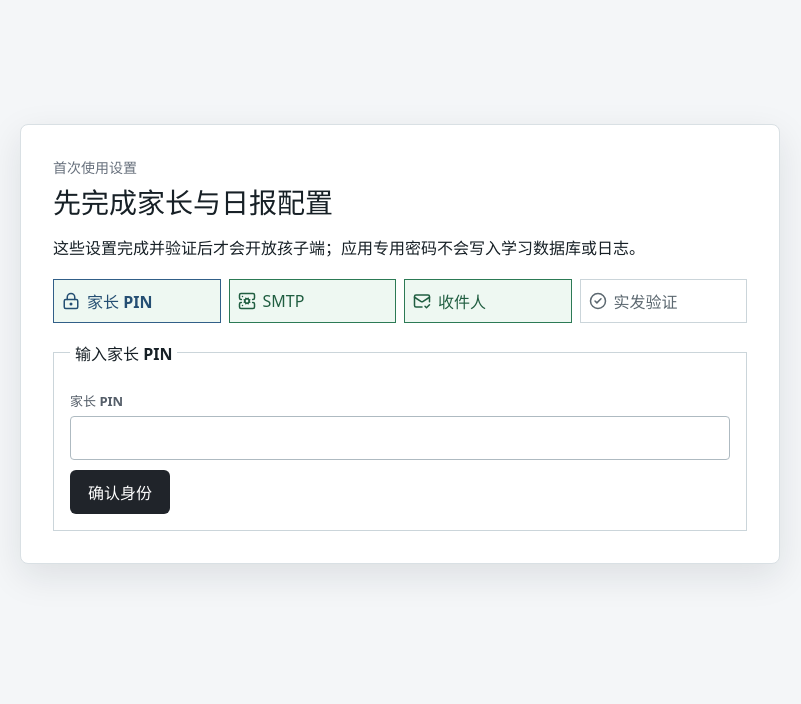
Scenario: InstallationSetupWizard › keeps dispatch closed after a status-read failure and a status-only refresh never sends
Type "2468" into the password field named "初始化家长PIN". click: x=400, y=438
box: [70,416,730,460]
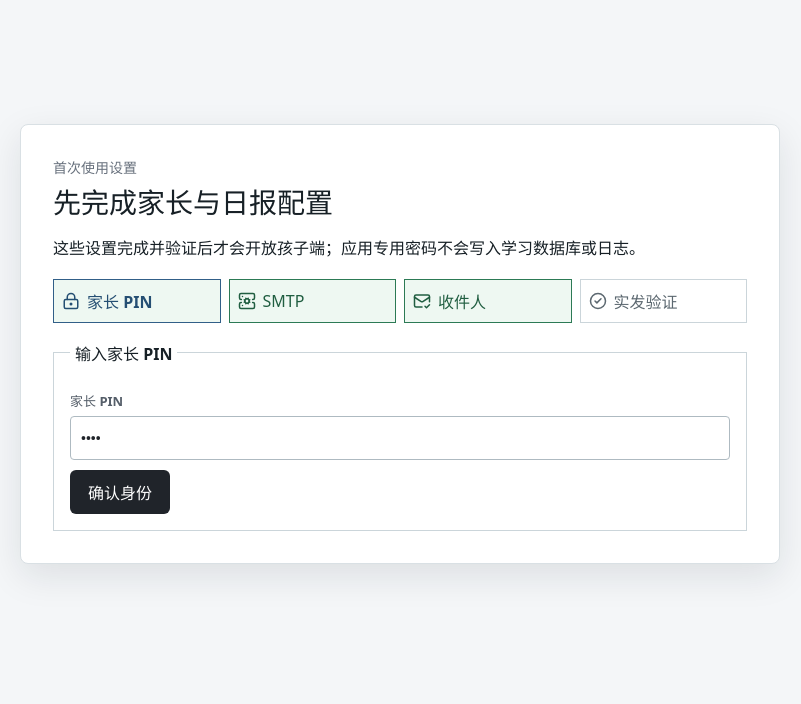
Click the button "确认身份". click: x=120, y=492
box: [70,470,170,514]
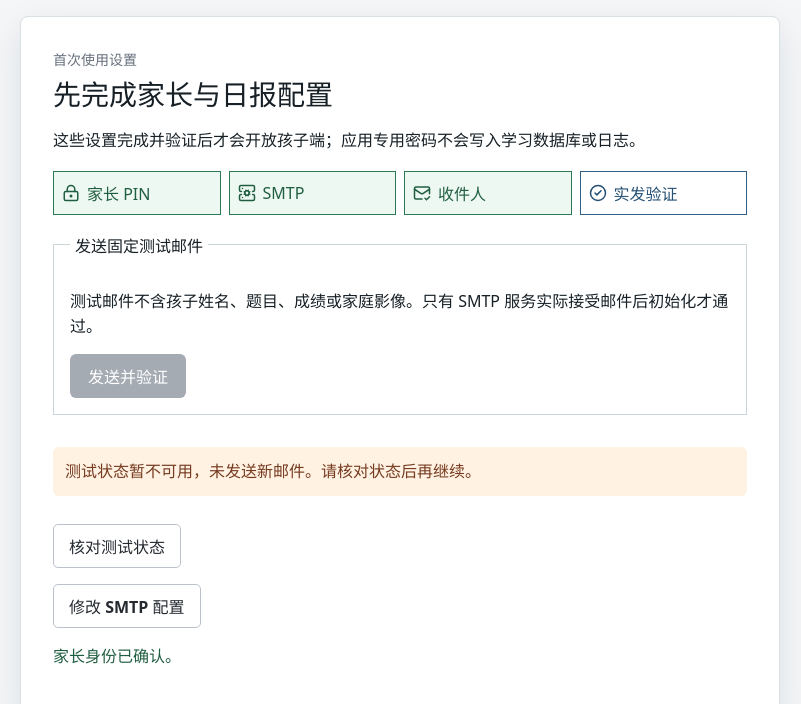
Now the text "测试状态暂不可用，未发送新邮件。请核对状态后再继续。" is shown, box [53,448,747,496]
Now the button "发送并验证" is disabled, box [70,354,186,398]
Click the button "核对测试状态". click: x=117, y=546
box: [53,524,181,568]
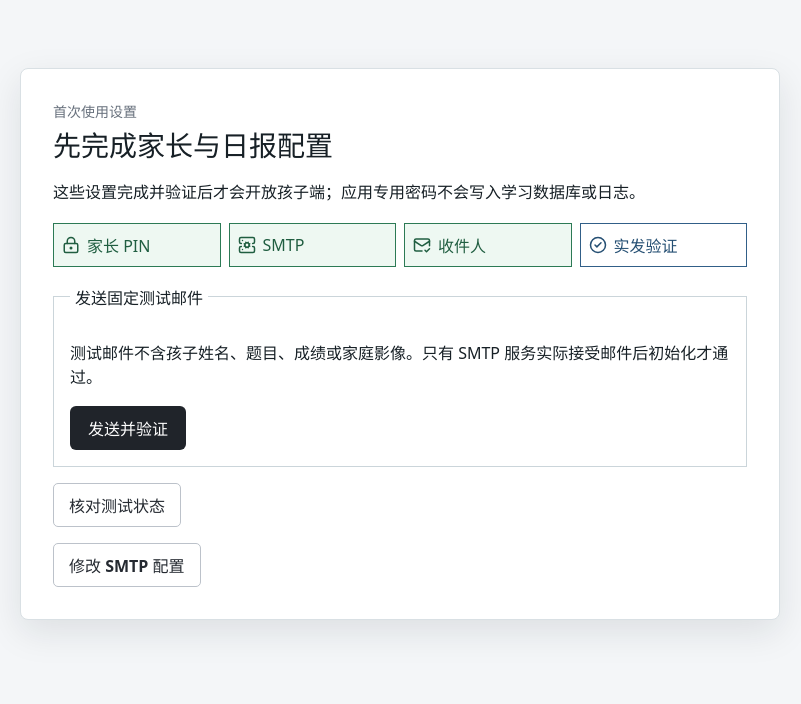
Now the button "发送并验证" is enabled, box [70,406,186,450]
